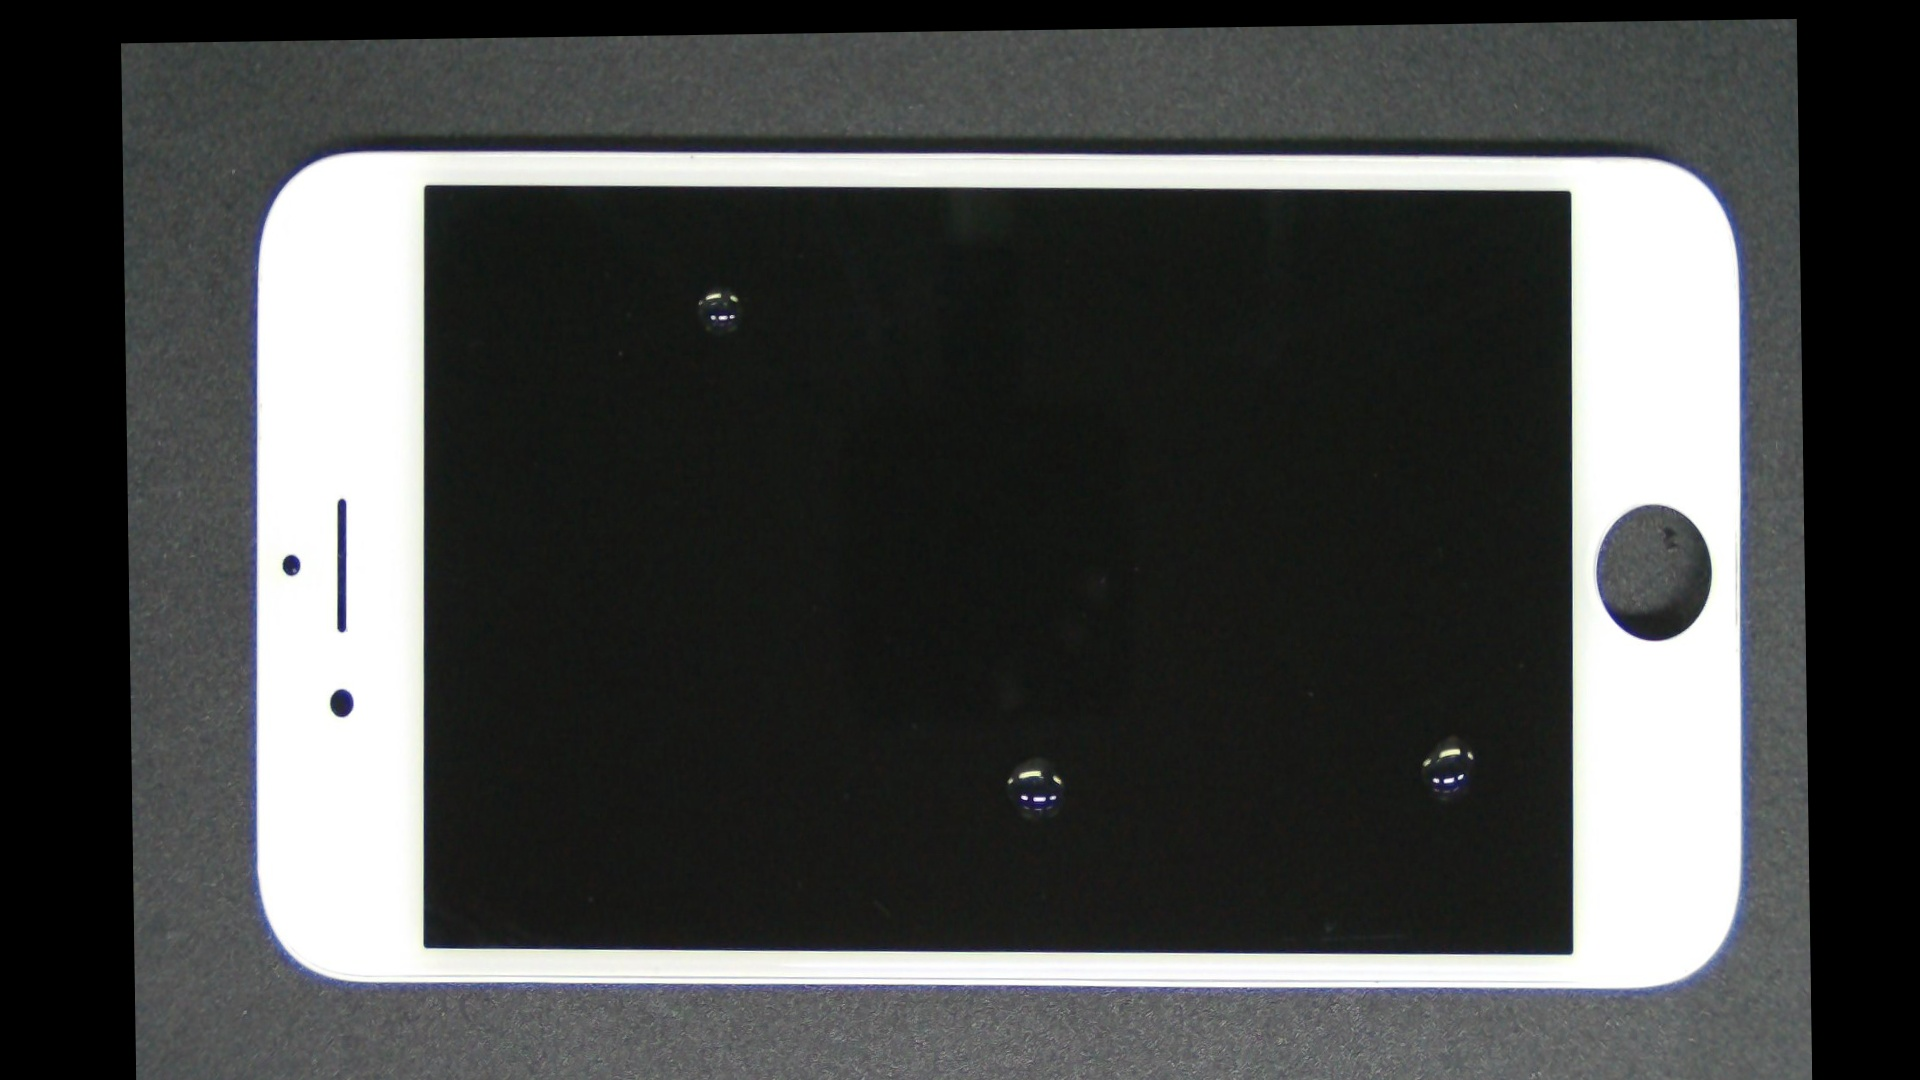oil: (786, 375, 1812, 1080), (579, 386, 1493, 1080), (418, 158, 1010, 423)
